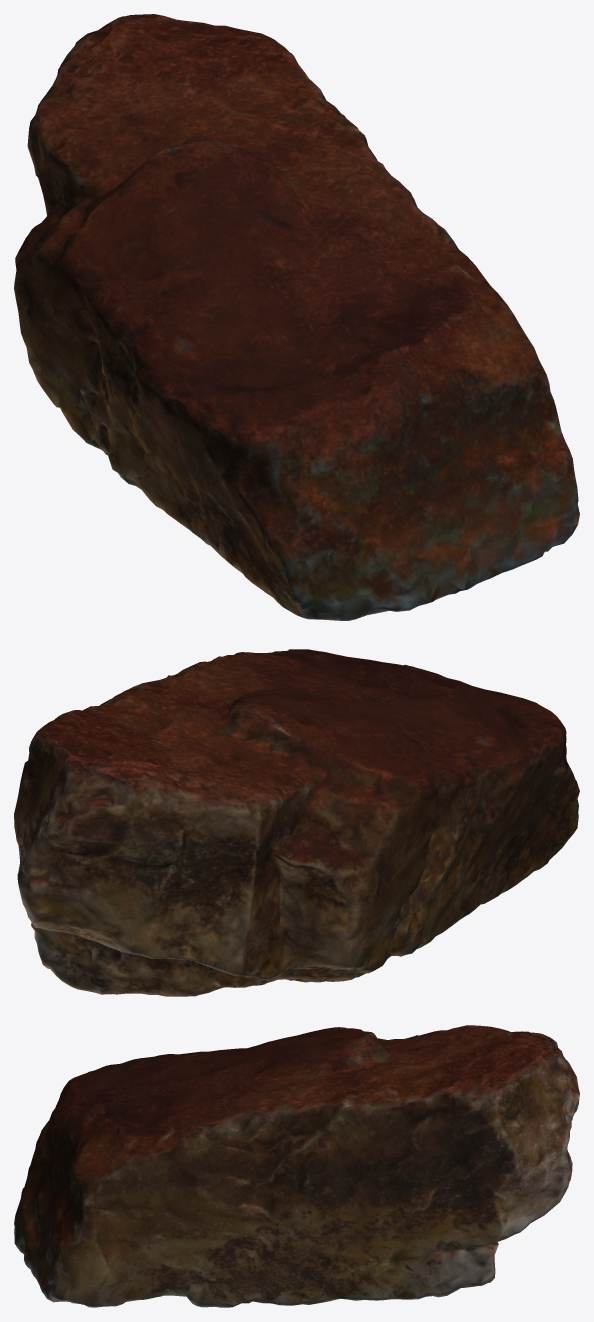
Rendered from rock_07.gltf.
3 views of the same model, one above another, from view 1: azimuth 30°, elevation 25°; view 2: azimuth 150°, elevation 25°; view 3: azimuth 270°, elevation 25° (orthographic). The views are drawn at different scales.
Parts seen in each view (by area): view 1: rock_07; view 2: rock_07; view 3: rock_07.
Boxes of the visible parts, x1,y1,x2,y2 form: rock_07: (14,14,579,620); rock_07: (14,649,579,996); rock_07: (14,1025,579,1307).
Bounding box in the file's own units: 0.1689 × 0.1437 × 0.3203.
1 material, 1 textured.
